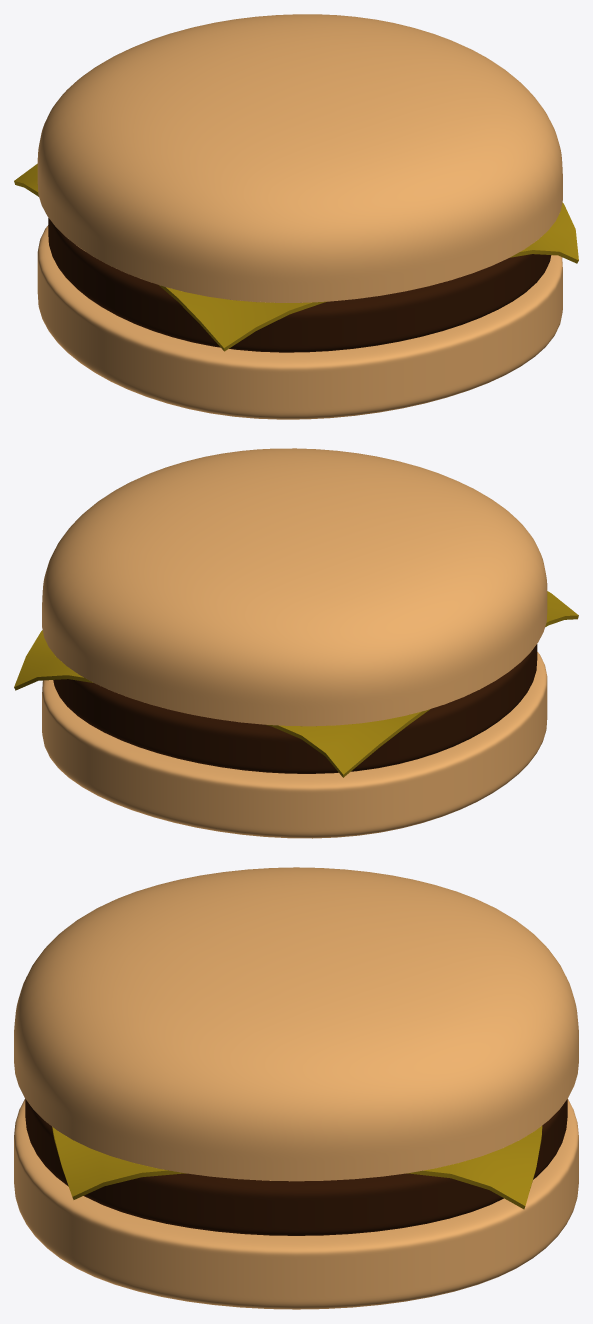
The model's file is Burger.glb.
3 renders of one model, top to bottom at view 1: azimuth 30°, elevation 25°; view 2: azimuth 150°, elevation 25°; view 3: azimuth 270°, elevation 25°, orthographic. The views are drawn at different scales.
Visible parts, largest first — view 1: TopBun, BottomBun, Patty, Cheese; view 2: TopBun, BottomBun, Patty, Cheese; view 3: TopBun, BottomBun, Patty, Cheese.
Boxes of the visible parts, x1=… form: TopBun: x1=37, y1=14, x2=562, y2=302; BottomBun: x1=37, y1=225, x2=562, y2=419; Patty: x1=48, y1=218, x2=551, y2=352; Cheese: x1=14, y1=163, x2=578, y2=351; TopBun: x1=42, y1=448, x2=547, y2=726; BottomBun: x1=42, y1=652, x2=547, y2=838; Patty: x1=53, y1=644, x2=537, y2=773; Cheese: x1=14, y1=591, x2=578, y2=777; TopBun: x1=14, y1=867, x2=578, y2=1181; BottomBun: x1=14, y1=1098, x2=578, y2=1309; Patty: x1=25, y1=1099, x2=567, y2=1235; Cheese: x1=52, y1=1126, x2=542, y2=1209.
Bounding box in the file's own units: 9.17 × 4.82 × 9.17.
